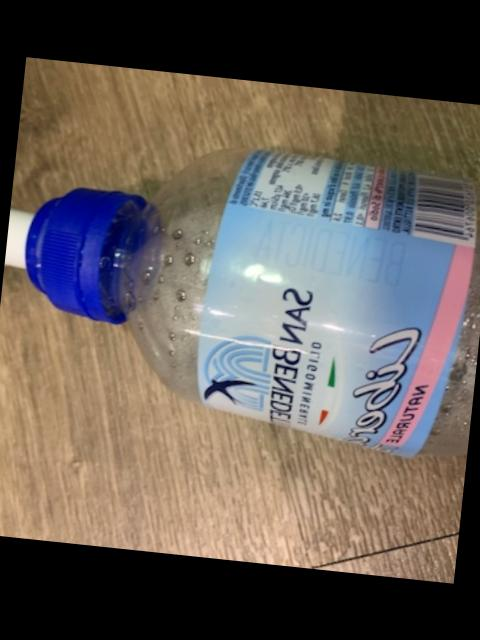plastic: (5, 147, 480, 453)
